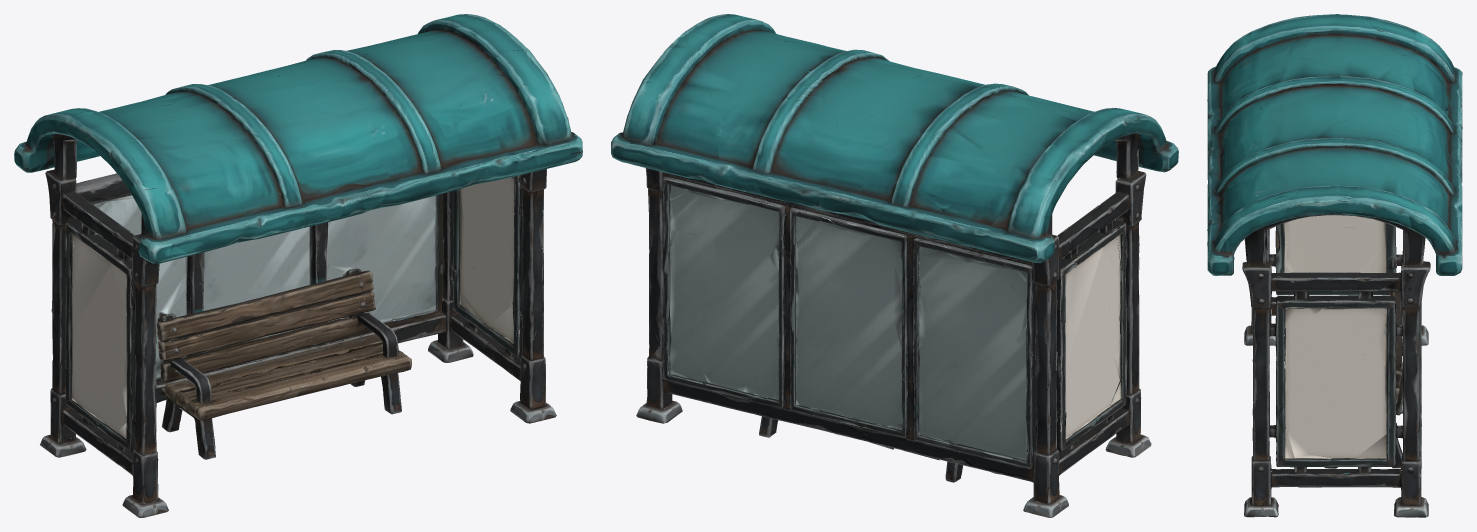
File: BusStop.fbx
The picture shows the model from 3 angles, left to right: view 1: azimuth 30°, elevation 25°; view 2: azimuth 150°, elevation 25°; view 3: azimuth 270°, elevation 25°; orthographic projection. The views are drawn at different scales.
Visible parts, largest first — view 1: BusStop.003; view 2: BusStop.003; view 3: BusStop.003.
Boxes of the visible parts, x1,y1,x2,y2 form: BusStop.003: (14,14,582,517); BusStop.003: (611,14,1178,517); BusStop.003: (1207,14,1462,517).
Bounding box in the file's own units: 3.82 × 2.95 × 2.13.
Materials: 1 (1 with a texture image).
